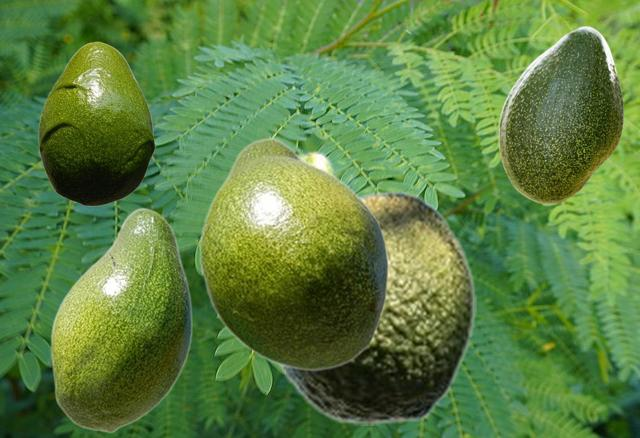avocado: (273, 190, 475, 424), (198, 137, 388, 371), (50, 207, 192, 432), (498, 26, 622, 203), (38, 41, 154, 205), (297, 149, 339, 176)
